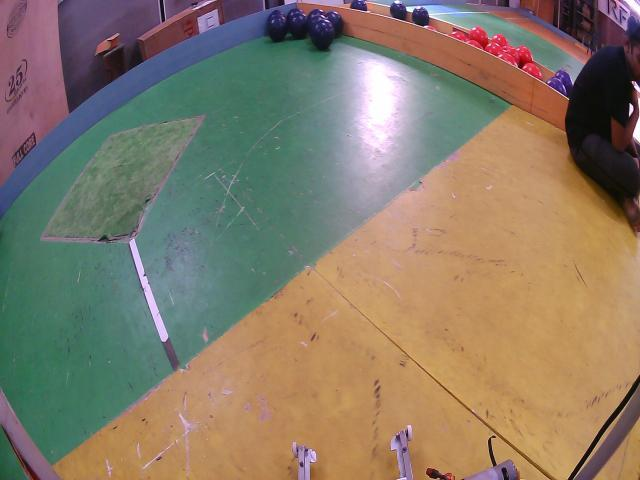jambhalya: (555, 70, 572, 97), (546, 77, 566, 96)
kaalyya: (309, 18, 335, 50), (268, 15, 289, 42), (289, 13, 308, 38), (326, 10, 344, 36), (411, 7, 430, 26), (390, 0, 408, 20), (286, 7, 302, 22), (308, 13, 326, 26), (268, 10, 285, 22), (350, 0, 368, 11), (308, 8, 325, 19)
